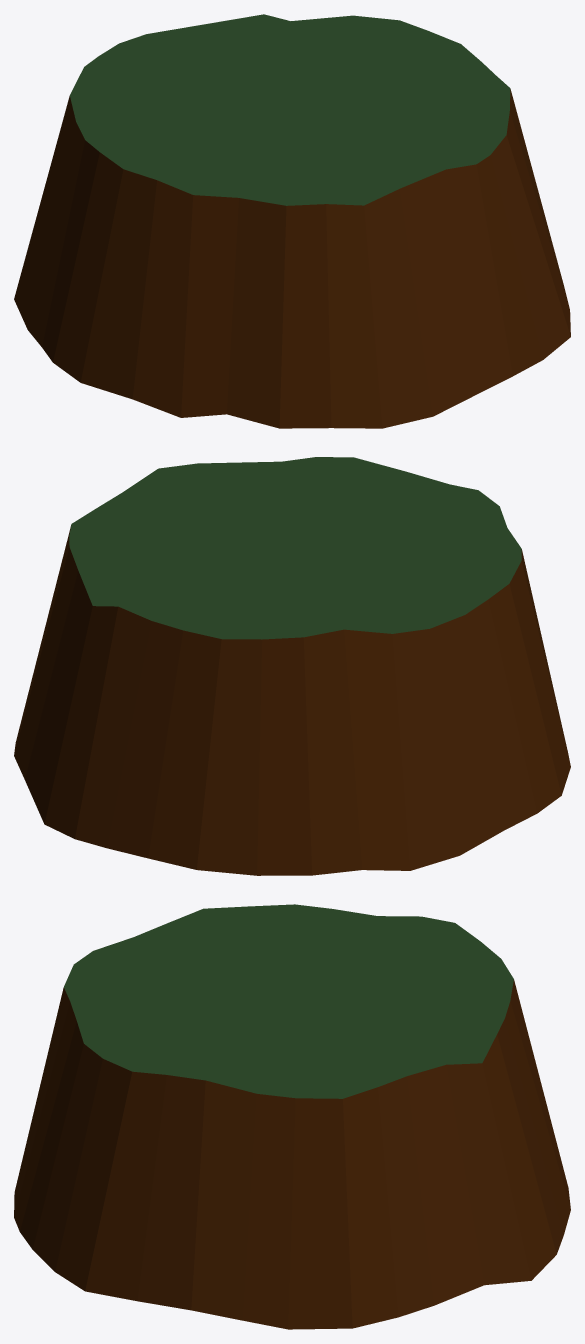
Rendered from TreeStump.fbx.
3 renders of one model, top to bottom at view 1: azimuth 30°, elevation 25°; view 2: azimuth 150°, elevation 25°; view 3: azimuth 270°, elevation 25°, orthographic. The views are drawn at different scales.
Visible parts, largest first — view 1: TreeStump; view 2: TreeStump; view 3: TreeStump.
Boxes of the visible parts, <box> form: TreeStump: <box>14,14,570,428</box>; TreeStump: <box>14,457,570,875</box>; TreeStump: <box>14,904,570,1329</box>.
Size of the model in its own units: 1.9 by 0.8608 by 1.89.
Materials: 1 (1 with a texture image).
